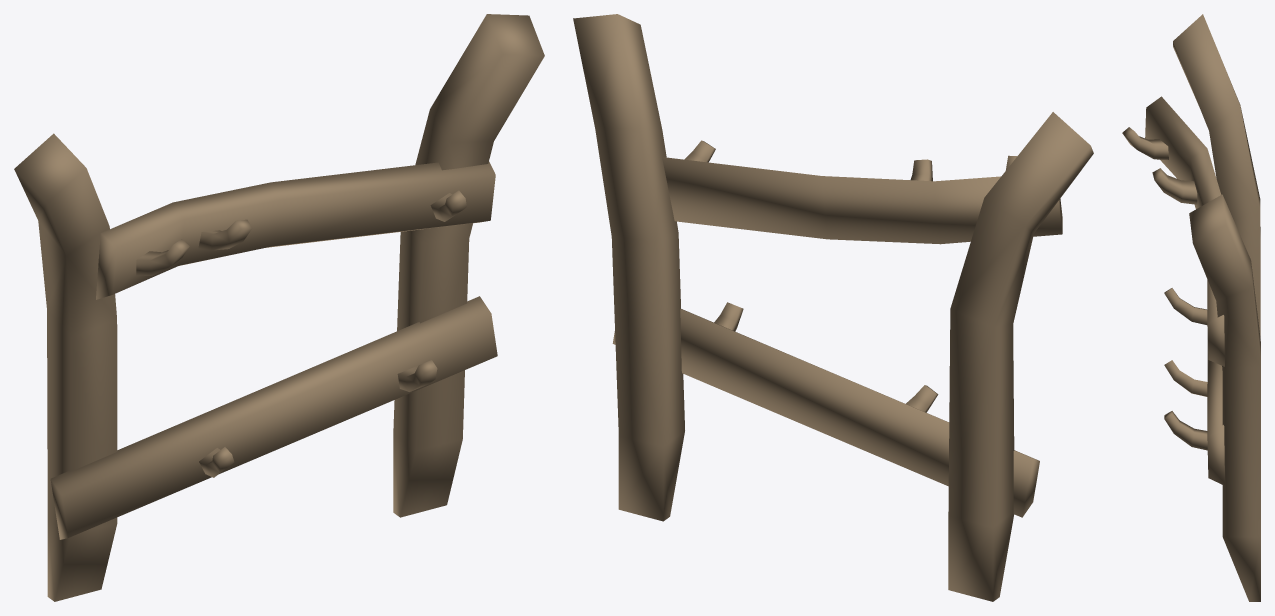
The model's file is rpgpp_av_tool_rack_wall_01b.gltf.
3 views of the same model, side by side, from view 1: azimuth 30°, elevation 25°; view 2: azimuth 150°, elevation 25°; view 3: azimuth 270°, elevation 25° (orthographic). The views are drawn at different scales.
Visible parts, largest first — view 1: rpgpp_av_tool_rack_wall_01b; view 2: rpgpp_av_tool_rack_wall_01b; view 3: rpgpp_av_tool_rack_wall_01b.
Boxes of the visible parts, x1,y1,x2,y2 form: rpgpp_av_tool_rack_wall_01b: (14, 14, 544, 601); rpgpp_av_tool_rack_wall_01b: (573, 14, 1093, 601); rpgpp_av_tool_rack_wall_01b: (1122, 14, 1260, 601).
Bounding box in the file's own units: 0.0153 × 0.0138 × 0.00414.
Materials: 1 (1 with a texture image).
